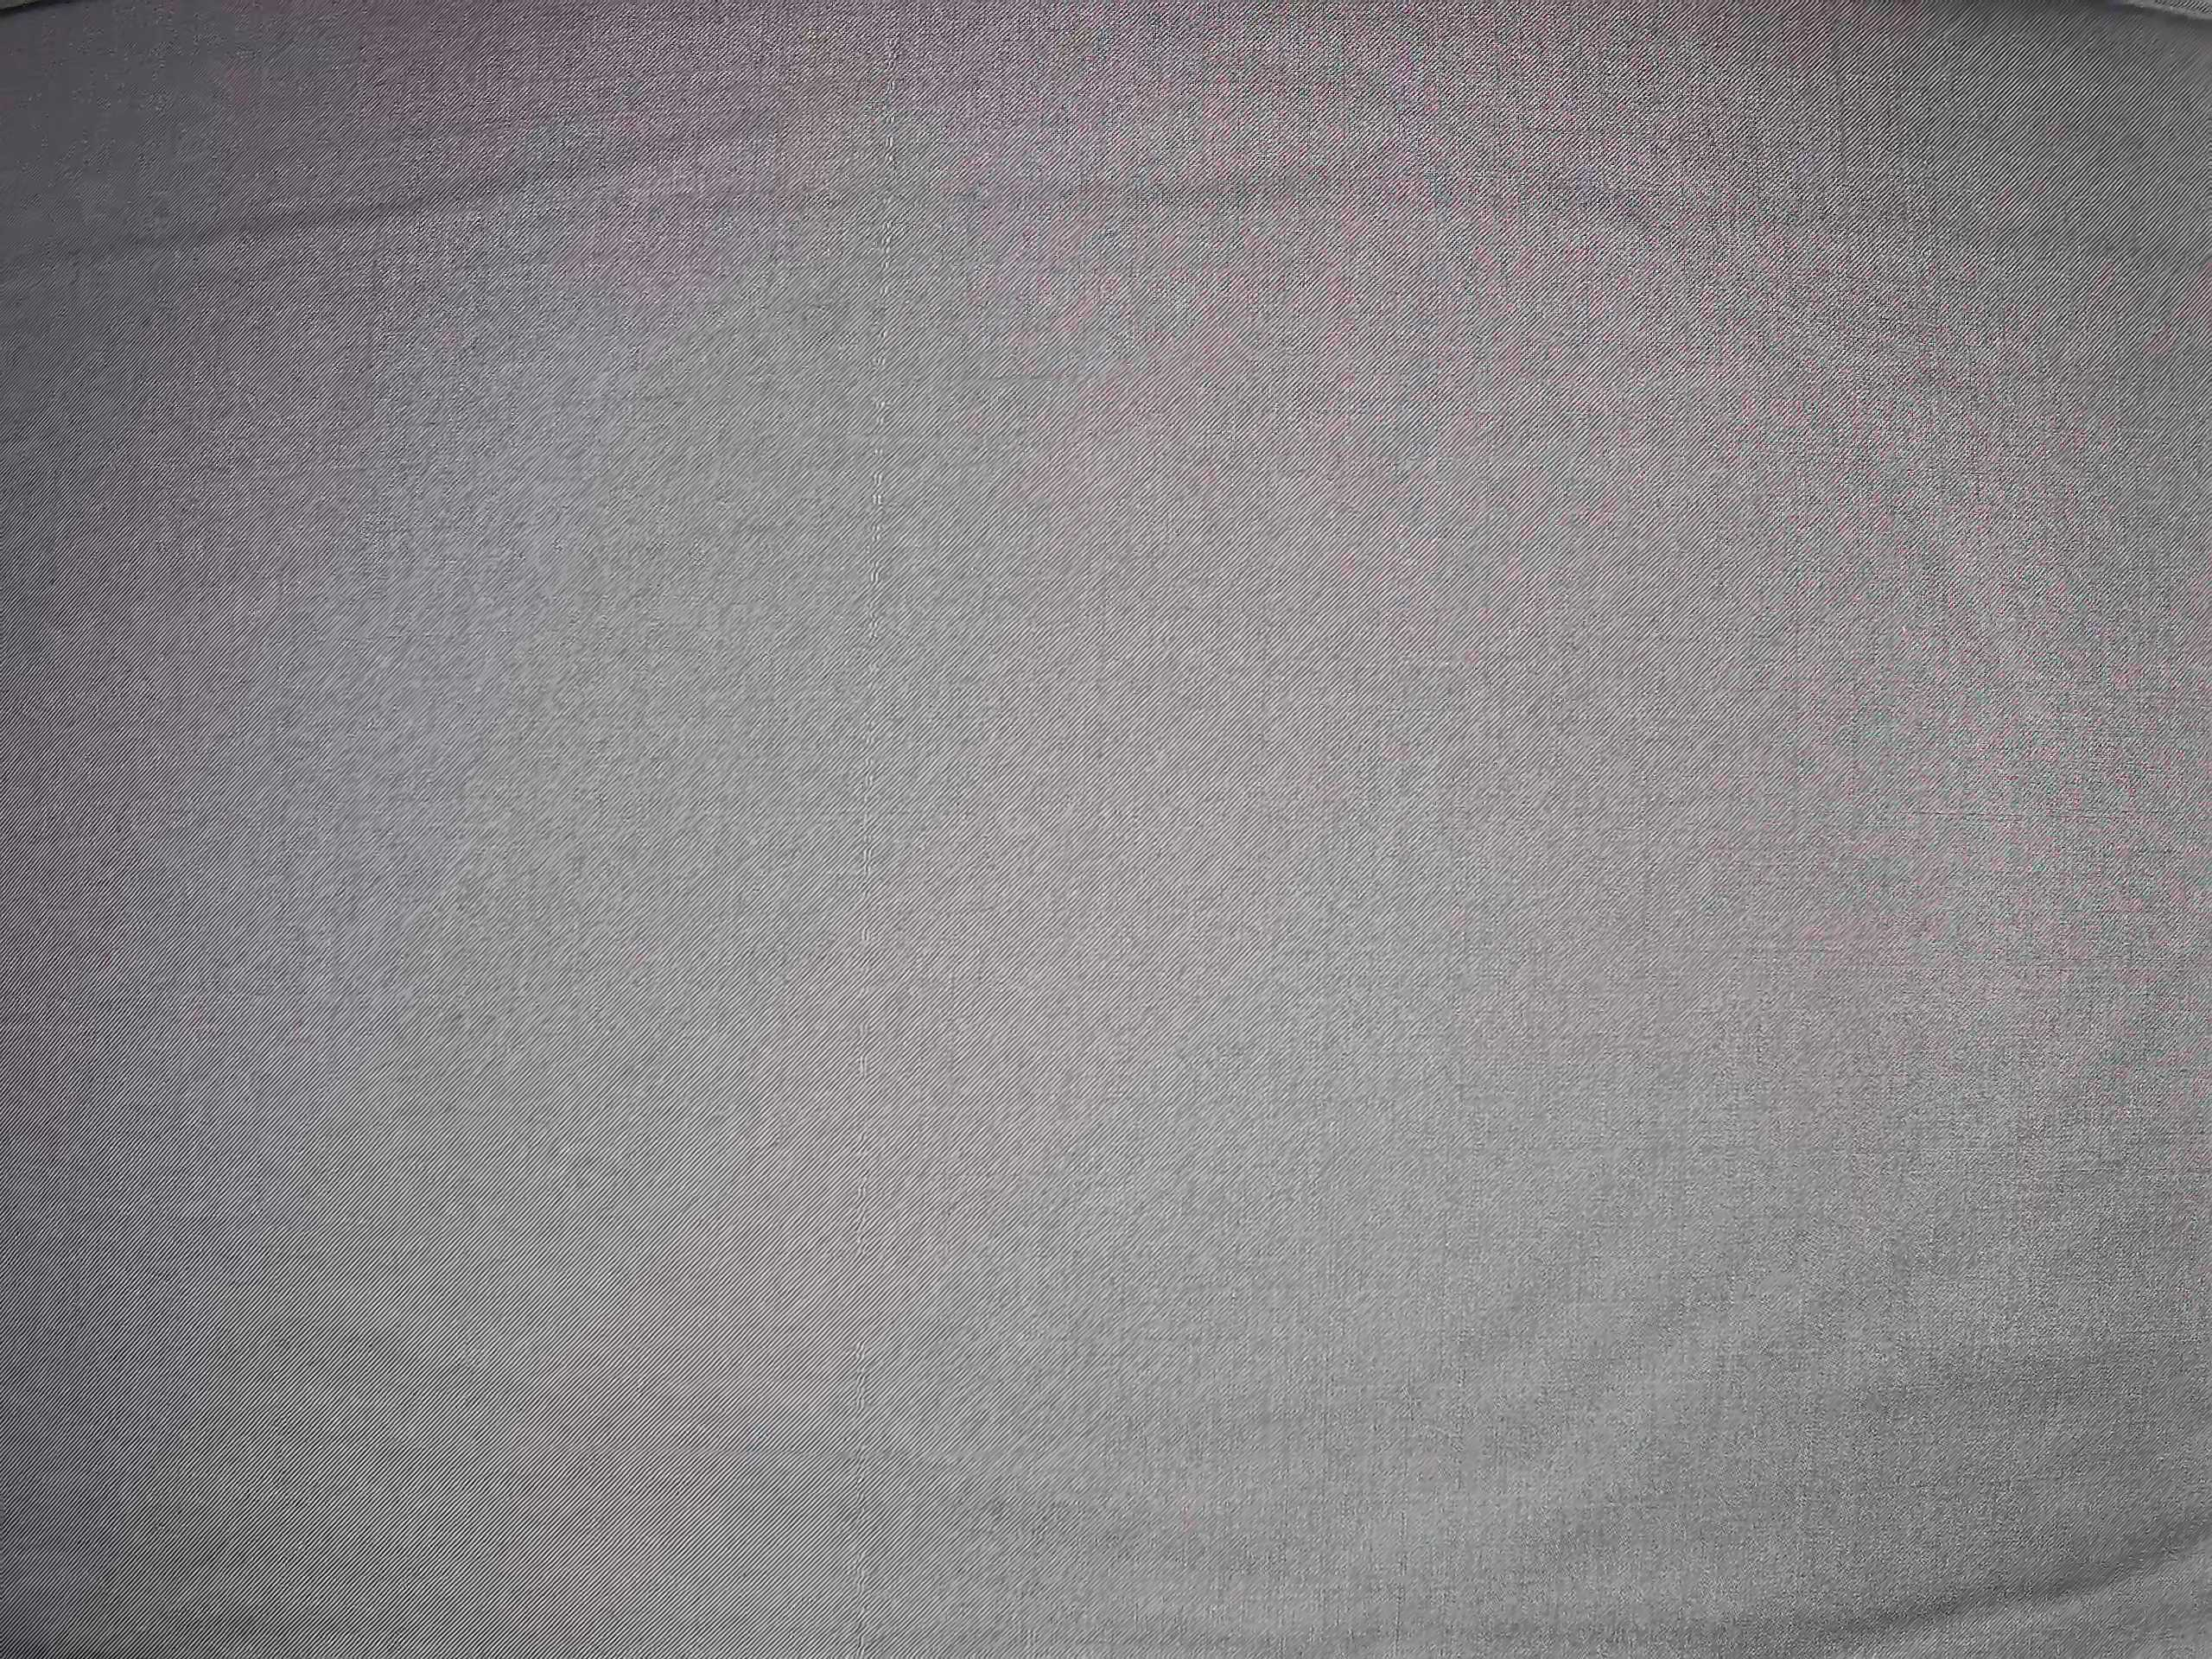jumps: (852, 7, 911, 1652)
